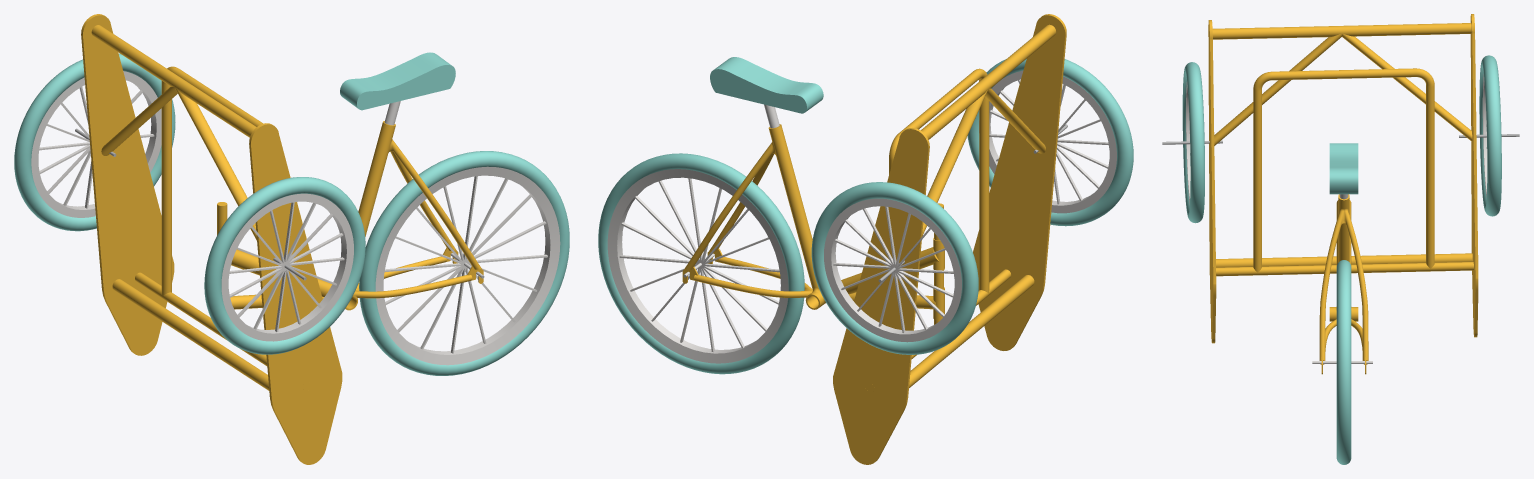
Rendered from semi_cargo.glb.
3 renders of one model, left to right at view 1: azimuth 30°, elevation 25°; view 2: azimuth 150°, elevation 25°; view 3: azimuth 270°, elevation 25°, orthographic. The views are drawn at different scales.
Parts seen in each view (by area): view 1: Cargo Seccionc (×2), rueda2 (×6), rueda (×3), bici2, Cargo SeccionB, sillin; view 2: Cargo Seccionc (×2), rueda2 (×6), rueda (×3), bici2, Cargo SeccionB, sillin; view 3: Cargo Seccionc (×2), Cargo SeccionB, rueda2 (×4), rueda, bici2, sillin.
Boxes of the visible parts, box(x1,y1,x2,y2) form: Cargo Seccionc (×2): box(81, 14, 342, 464); rueda2 (×6): box(14, 53, 365, 354); rueda (×3): box(359, 151, 569, 375); bici2: box(230, 121, 483, 310); Cargo SeccionB: box(135, 66, 311, 390); sillin: box(340, 52, 455, 110); Cargo Seccionc (×2): box(833, 14, 1066, 464); rueda2 (×6): box(811, 59, 1133, 354); rueda (×3): box(598, 153, 804, 374); bici2: box(682, 124, 944, 320); Cargo SeccionB: box(865, 68, 1010, 392); sillin: box(710, 57, 823, 113); Cargo Seccionc (×2): box(1208, 14, 1478, 343); Cargo SeccionB: box(1211, 68, 1473, 276); rueda2 (×4): box(1182, 55, 1501, 223); rueda: box(1336, 260, 1351, 464); bici2: box(1319, 194, 1368, 374); sillin: box(1329, 143, 1358, 194).
Bounding box in the file's own units: 160 × 122 × 124.
